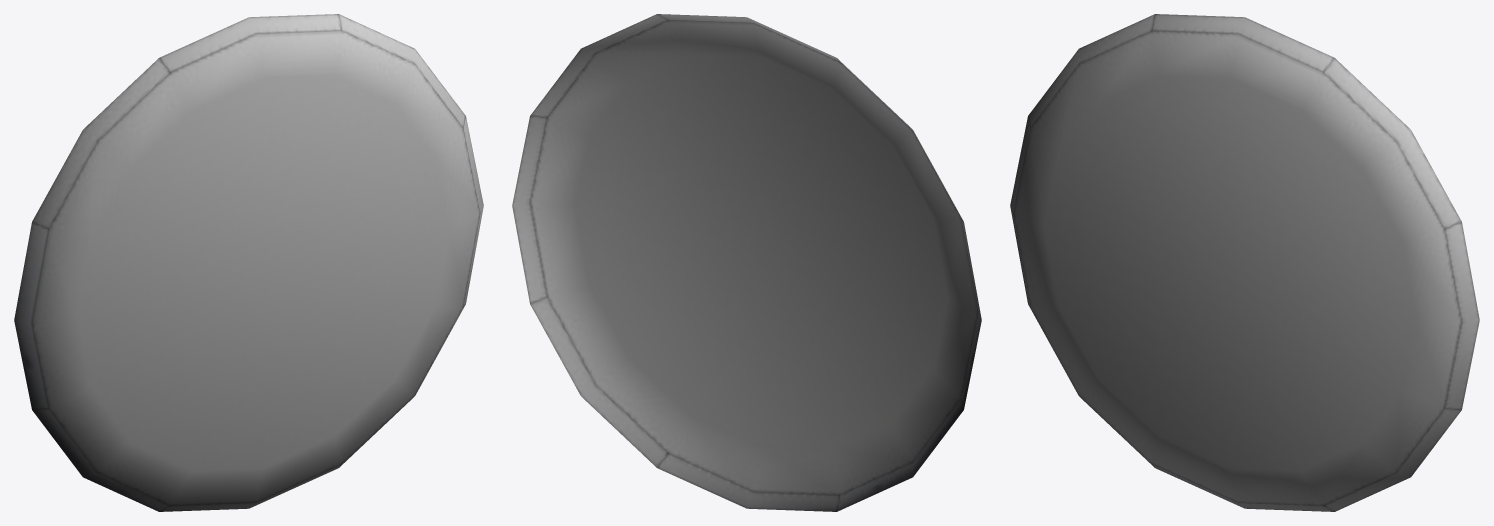
The model's file is button.obj.
The picture shows the model from 3 angles, left to right: view 1: azimuth 30°, elevation 25°; view 2: azimuth 150°, elevation 25°; view 3: azimuth 330°, elevation 25°; orthographic projection.
Visible parts, largest first — view 1: button004; view 2: button004; view 3: button004.
Part boxes in pixels (x1,y1,x2,y2): button004: (14, 14, 483, 511); button004: (512, 14, 981, 511); button004: (1010, 14, 1479, 511).
Bounding box in the file's own units: 55.66 × 55.66 × 2.99.
Materials: 1 (1 with a texture image).
